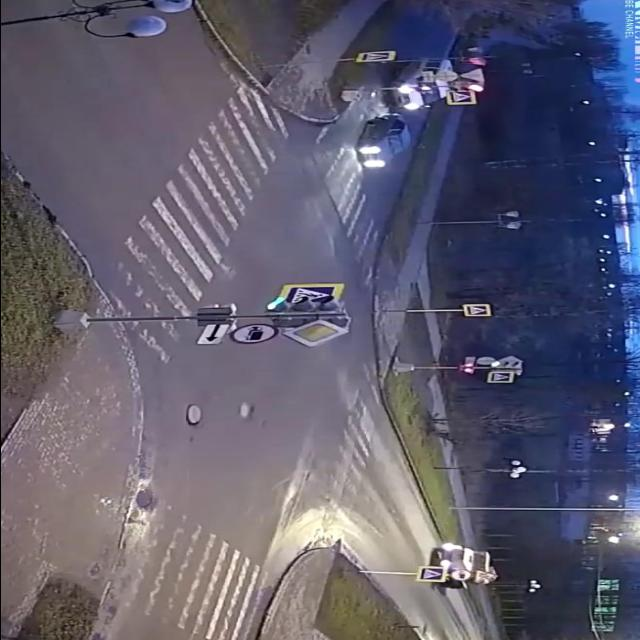non_accident: (346, 53, 462, 171)
